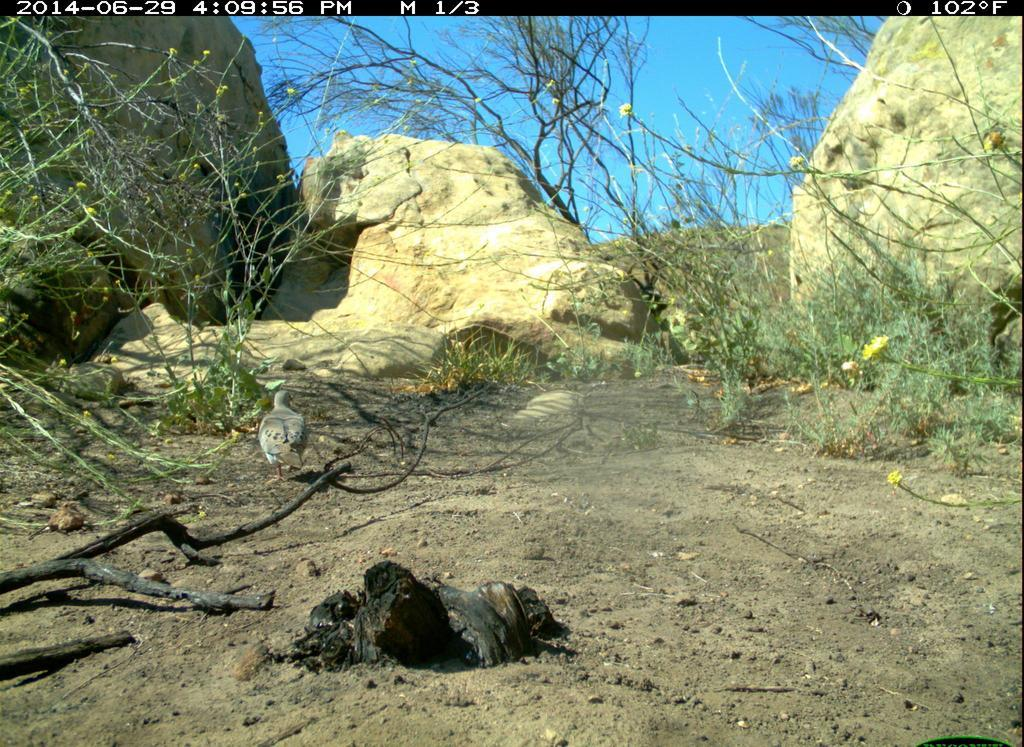bird: (246, 377, 338, 501)
